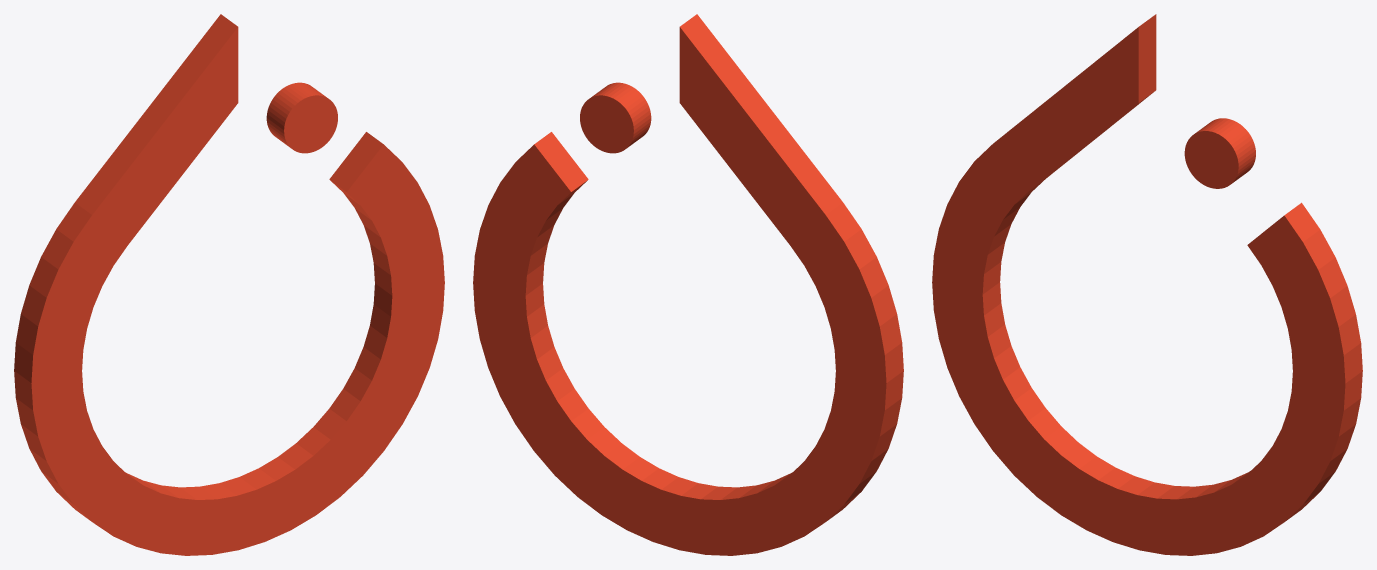
The model's file is pytorch.glb.
3 renders of one model, left to right at view 1: azimuth 30°, elevation 25°; view 2: azimuth 150°, elevation 25°; view 3: azimuth 330°, elevation 25°, orthographic.
Visible parts, largest first — view 1: Curve; view 2: Curve; view 3: Curve.
Part boxes in pixels (left/top/right/bottom): Curve: left=14, top=14, right=444, bottom=555; Curve: left=473, top=14, right=903, bottom=555; Curve: left=932, top=14, right=1362, bottom=555.
Size of the model in its own units: 0.0289 by 0.035 by 0.00211.
